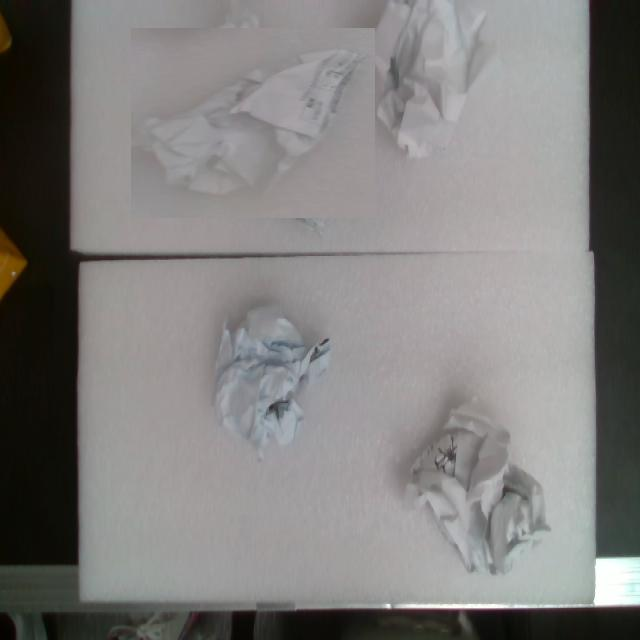paper: (374, 376, 600, 604), (130, 27, 388, 218), (142, 271, 354, 485), (343, 0, 510, 181)
